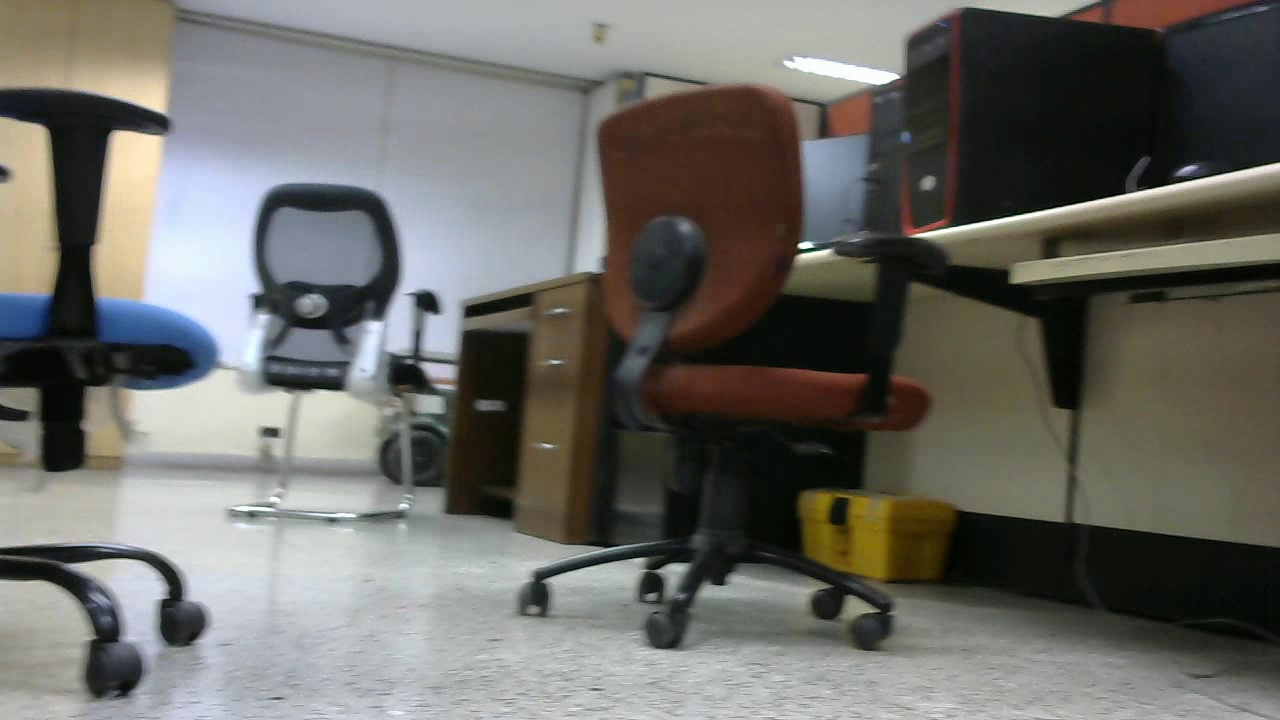chair: (574, 89, 890, 643), (236, 184, 412, 523)
